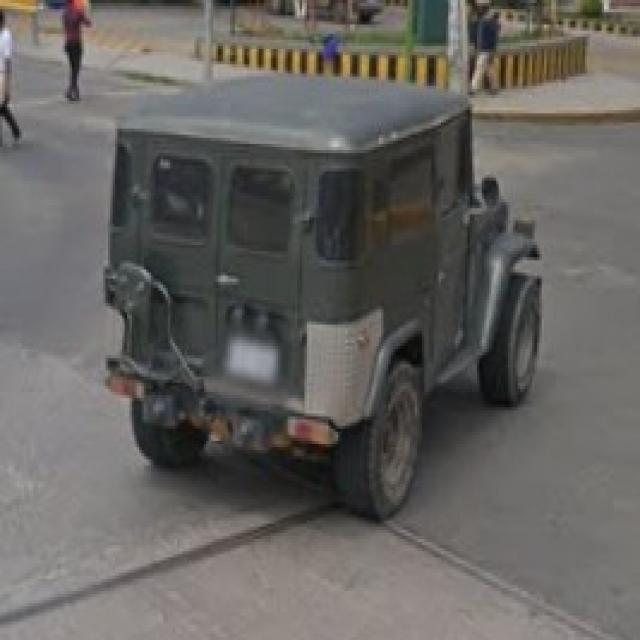cars: (111, 73, 544, 538)
